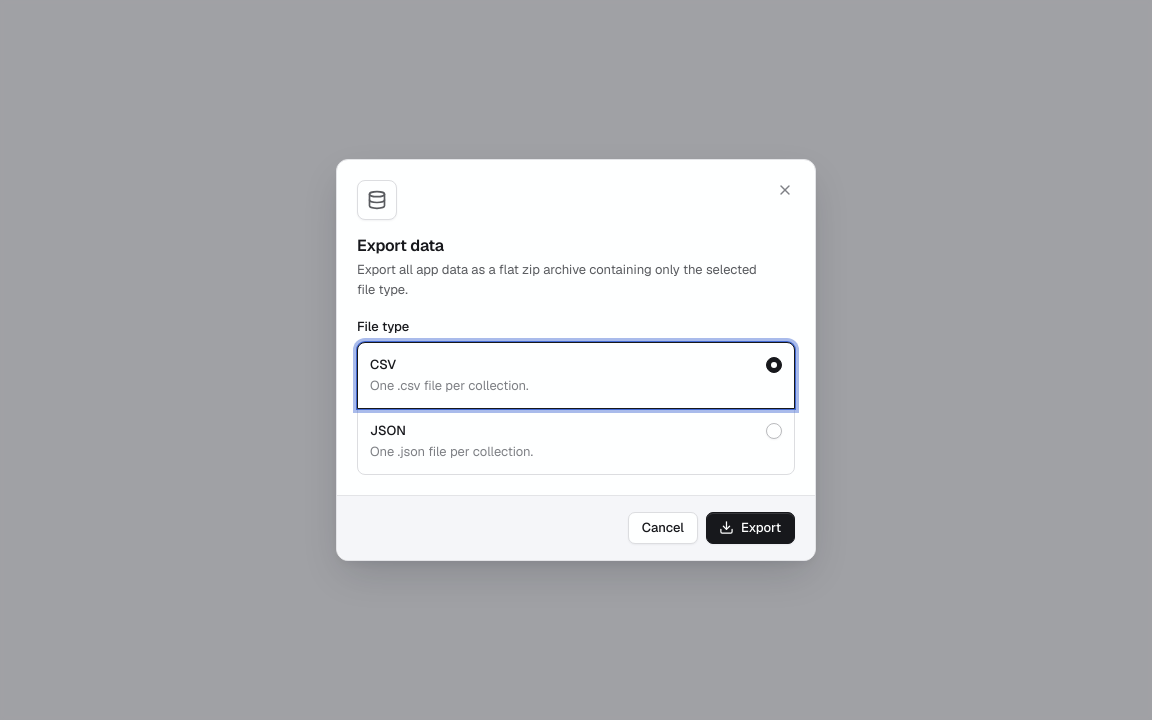
Test: ExportDialog › complains when the server does not return a file
Click the button "Export": coordinates (750, 528) [706,512,795,544]
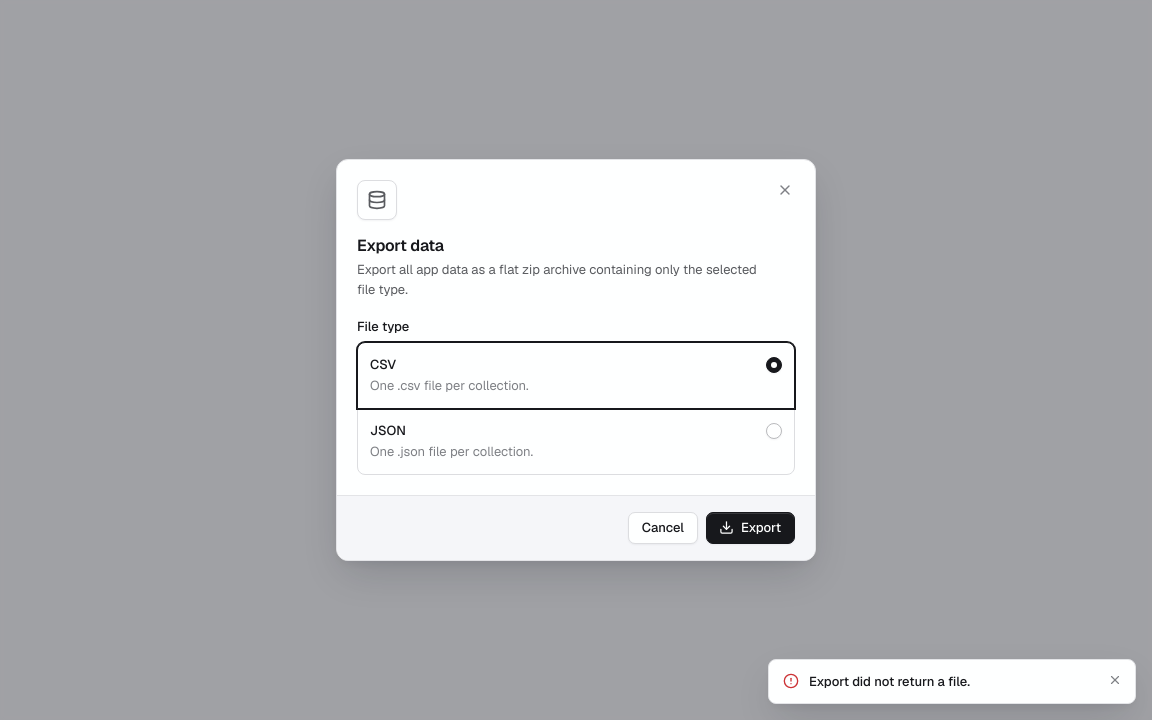
Expected: the text "Export did not return a file." is shown, [809,672,970,690]
